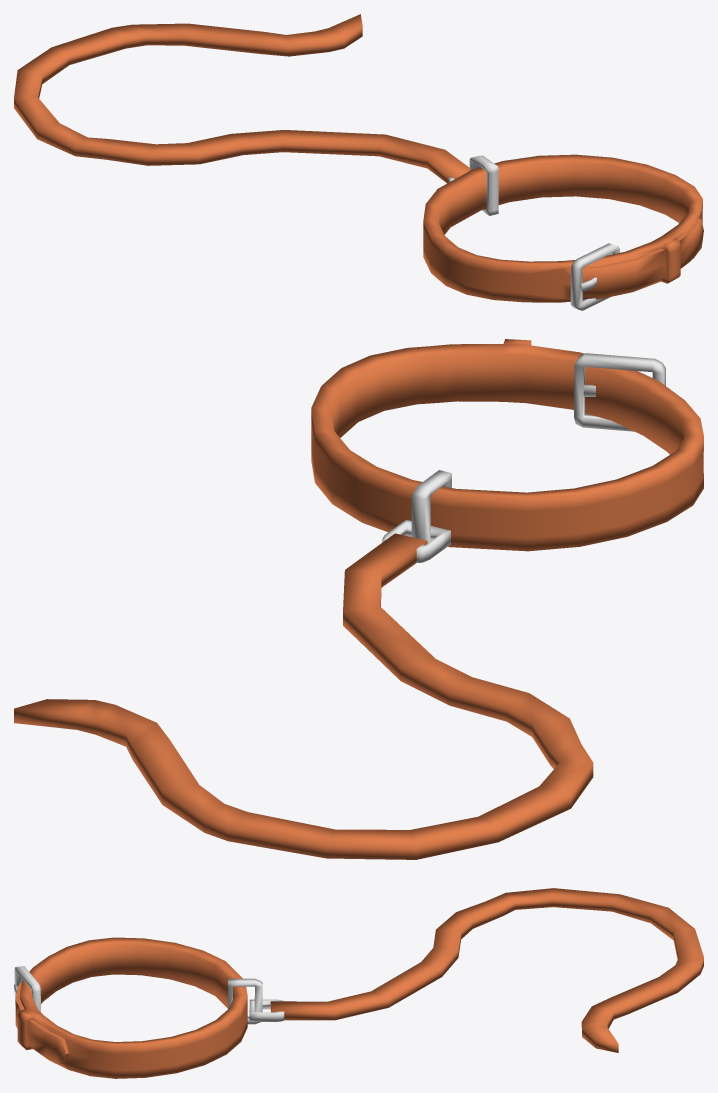
Rendered from collar.fbx.
3 renders of one model, top to bottom at view 1: azimuth 30°, elevation 25°; view 2: azimuth 150°, elevation 25°; view 3: azimuth 270°, elevation 25°, orthographic. The views are drawn at different scales.
Visible parts, largest first — view 1: collar; view 2: collar; view 3: collar.
Part boxes in pixels (left/top/right/bottom): collar: left=14, top=14, right=703, bottom=310; collar: left=14, top=339, right=703, bottom=859; collar: left=14, top=888, right=703, bottom=1078.
Size of the model in its own units: 43 by 4.93 by 70.6.
